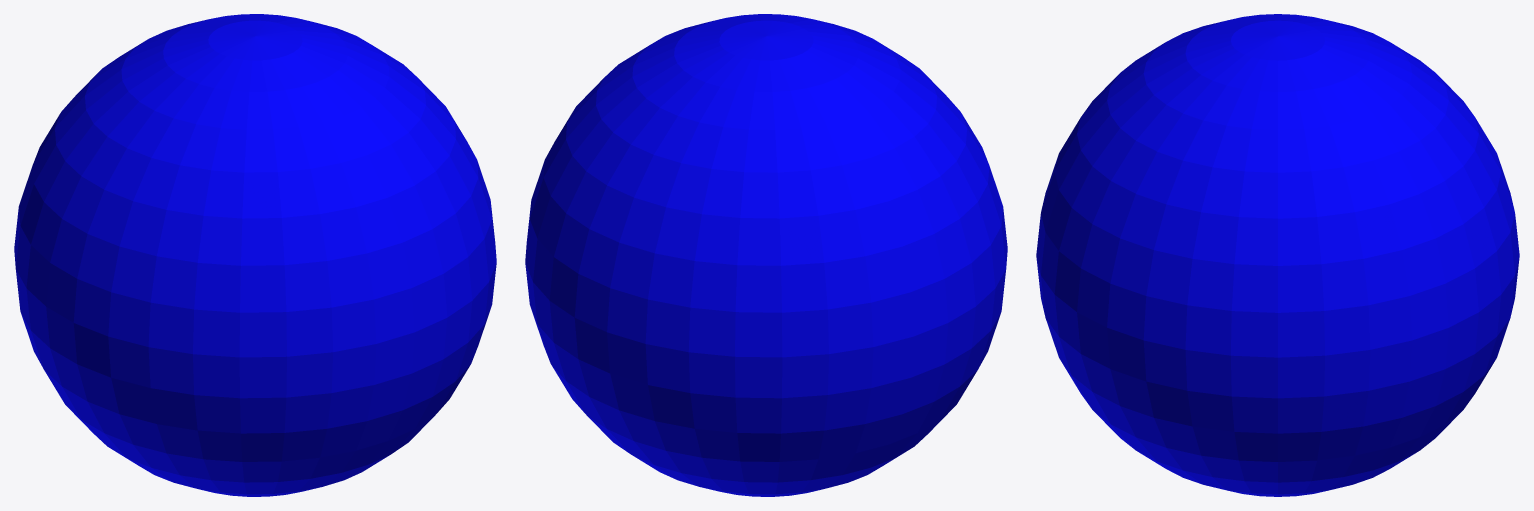
Rendered from exp_full_task.obj.
3 views of the same model, side by side, from view 1: azimuth 30°, elevation 25°; view 2: azimuth 150°, elevation 25°; view 3: azimuth 270°, elevation 25° (orthographic).
Parts seen in each view (by area): view 1: Sphere.002; view 2: Sphere.002; view 3: Sphere.002.
Boxes of the visible parts, <box> form: Sphere.002: <box>14,14,496,496</box>; Sphere.002: <box>525,14,1007,496</box>; Sphere.002: <box>1036,14,1519,496</box>.
Size of the model in its own units: 2 by 2 by 2.
